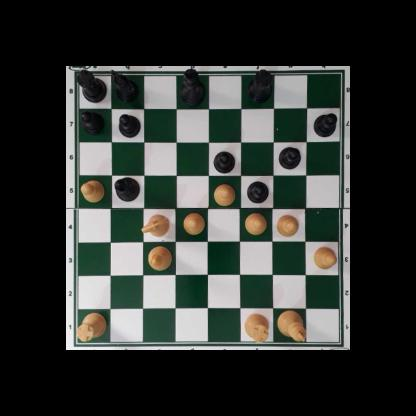black-bishop: (115, 176, 140, 202)
black-king: (179, 68, 205, 108)
black-knight: (110, 70, 138, 101)
black-pawn: (78, 109, 105, 135), (313, 112, 338, 138), (117, 114, 142, 138), (278, 145, 301, 169), (213, 149, 236, 173), (247, 179, 269, 203)
black-rook: (76, 67, 106, 102), (246, 69, 273, 102)
white-bishop: (147, 245, 171, 270)
white-king: (277, 309, 306, 343)
white-knight: (143, 213, 170, 238)
white-pawn: (312, 245, 337, 270), (80, 179, 105, 202), (244, 211, 267, 235), (276, 213, 299, 237), (211, 183, 236, 205), (182, 212, 205, 234)
white-rook: (76, 312, 106, 341), (244, 312, 270, 342)
